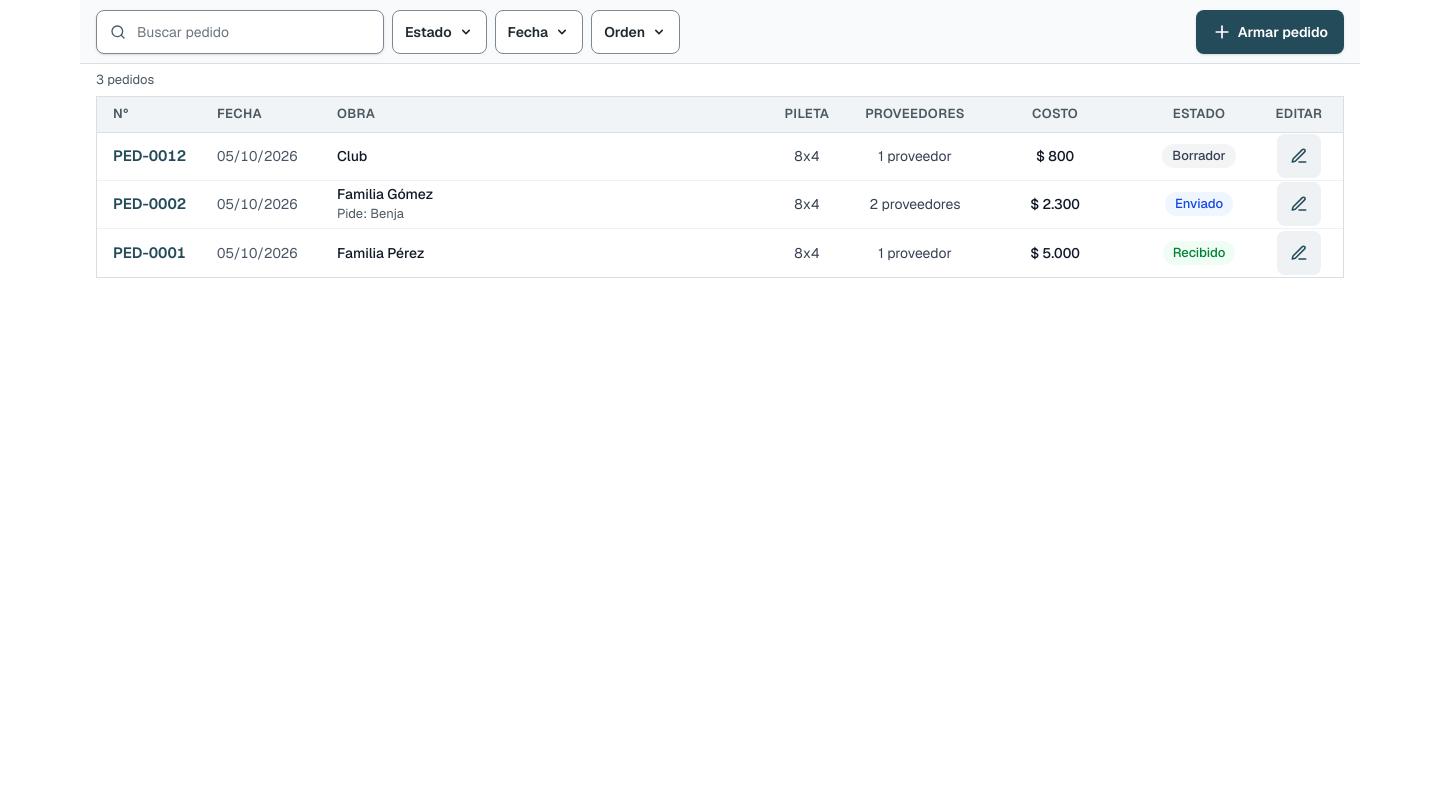
Test case: Pedidos › el detalle de un pedido › muestra las líneas por proveedor, los subtotales y el total (lo sin precio no suma)
Expected: the text "3 pedidos" is shown, [96,70,154,90]
Click the button named "Abrir PED-0002": coordinates (1299, 204) [1277,182,1321,226]
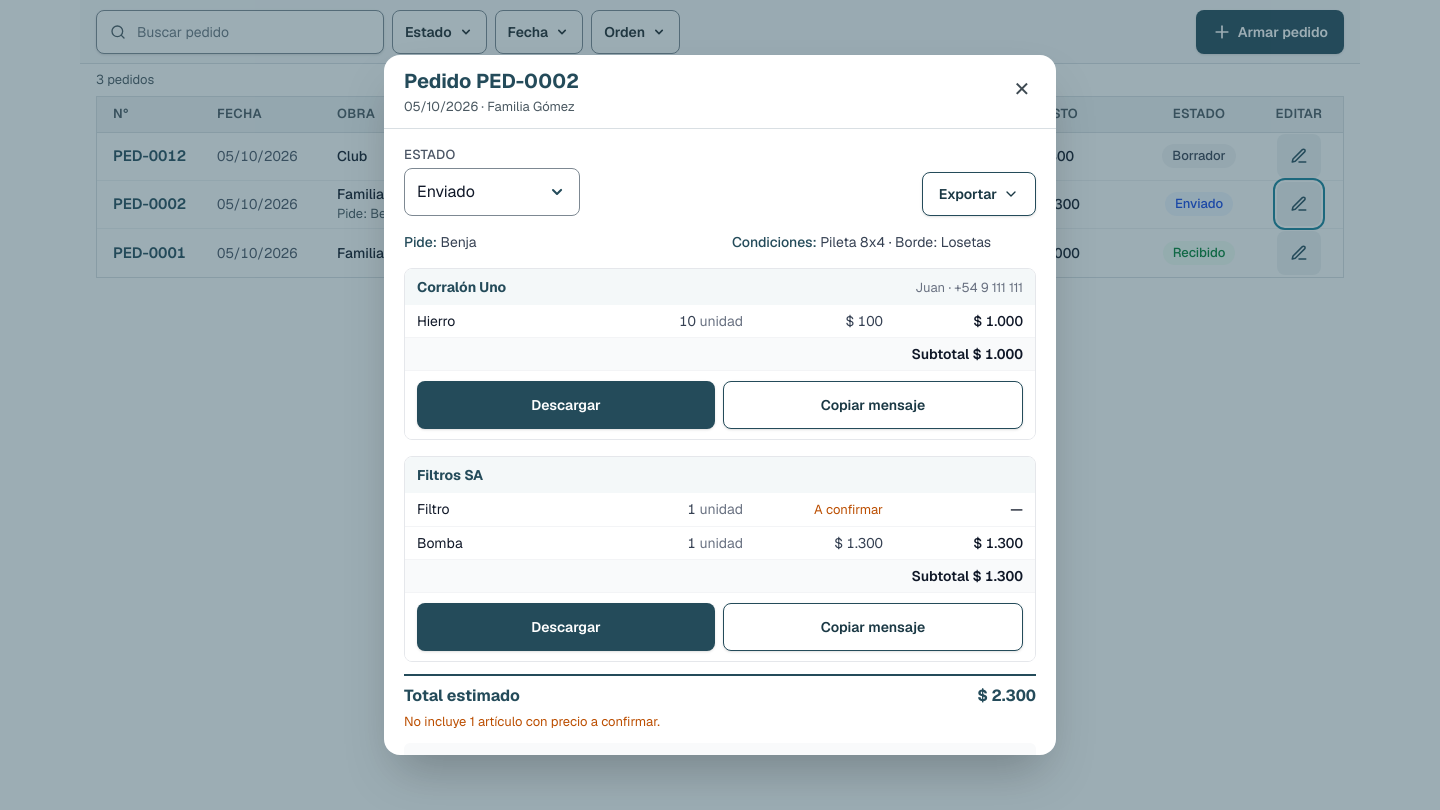
Result: the text "Bomba" is shown at [417,534,463,552]
Result: the text "A confirmar" is shown at [814,502,883,518]
Result: the text "Subtotal $ 1.300" is shown at [405,559,1035,592]
